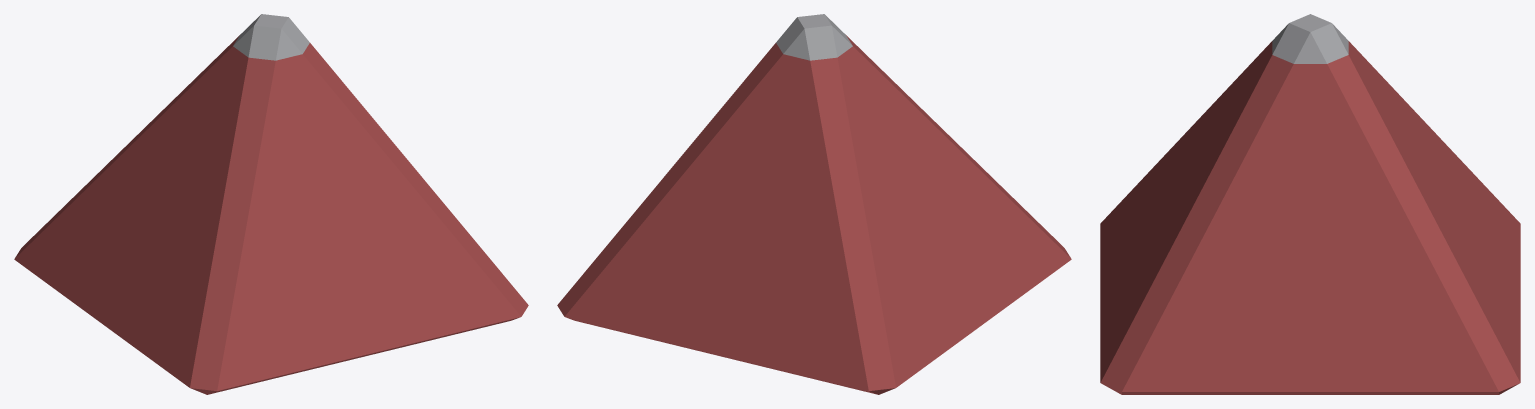
File: Roof_Point_Red_01.obj
3 renders of one model, left to right at view 1: azimuth 30°, elevation 25°; view 2: azimuth 150°, elevation 25°; view 3: azimuth 270°, elevation 25°, orthographic. The views are drawn at different scales.
Parts seen in each view (by area): view 1: Mesh1_Roof_Point_Red_Model; view 2: Mesh1_Roof_Point_Red_Model; view 3: Mesh1_Roof_Point_Red_Model.
Boxes of the visible parts, x1,y1,x2,y2 form: Mesh1_Roof_Point_Red_Model: (14,14,528,394); Mesh1_Roof_Point_Red_Model: (557,14,1071,394); Mesh1_Roof_Point_Red_Model: (1100,14,1520,394).
Bounding box in the file's own units: 3.34 × 2.56 × 3.34.
